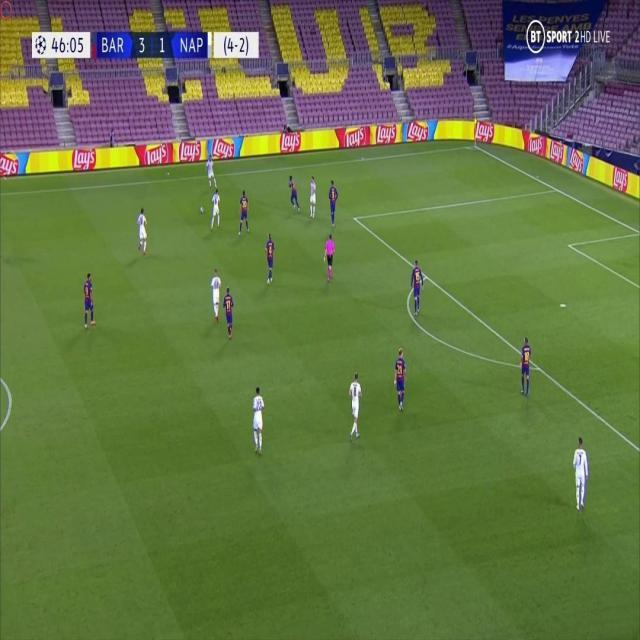ball: (199, 204, 205, 214)
player: (571, 435, 589, 514), (346, 367, 363, 444), (250, 380, 266, 456), (391, 345, 407, 413), (81, 269, 97, 331), (408, 257, 423, 317), (518, 332, 531, 397), (222, 284, 236, 342), (208, 265, 222, 322), (263, 230, 276, 284), (136, 204, 149, 255), (326, 178, 339, 227), (237, 187, 250, 236), (286, 174, 301, 214), (209, 186, 221, 231), (306, 172, 317, 218), (204, 148, 216, 187)
referee: (323, 231, 336, 283)
